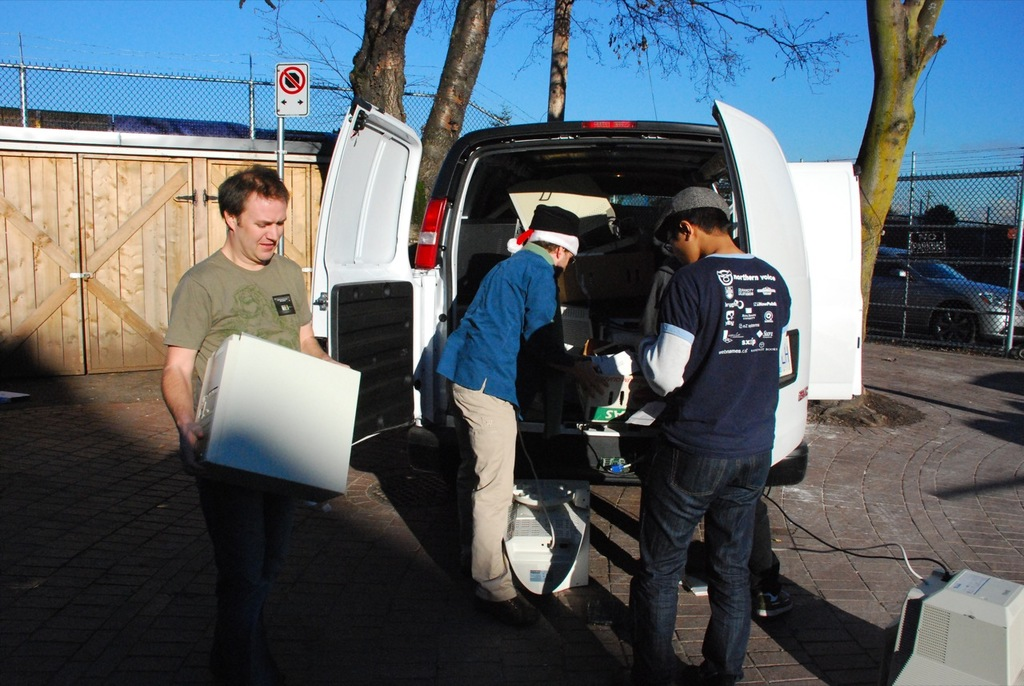car: (263, 63, 867, 542), (845, 218, 1024, 348)
